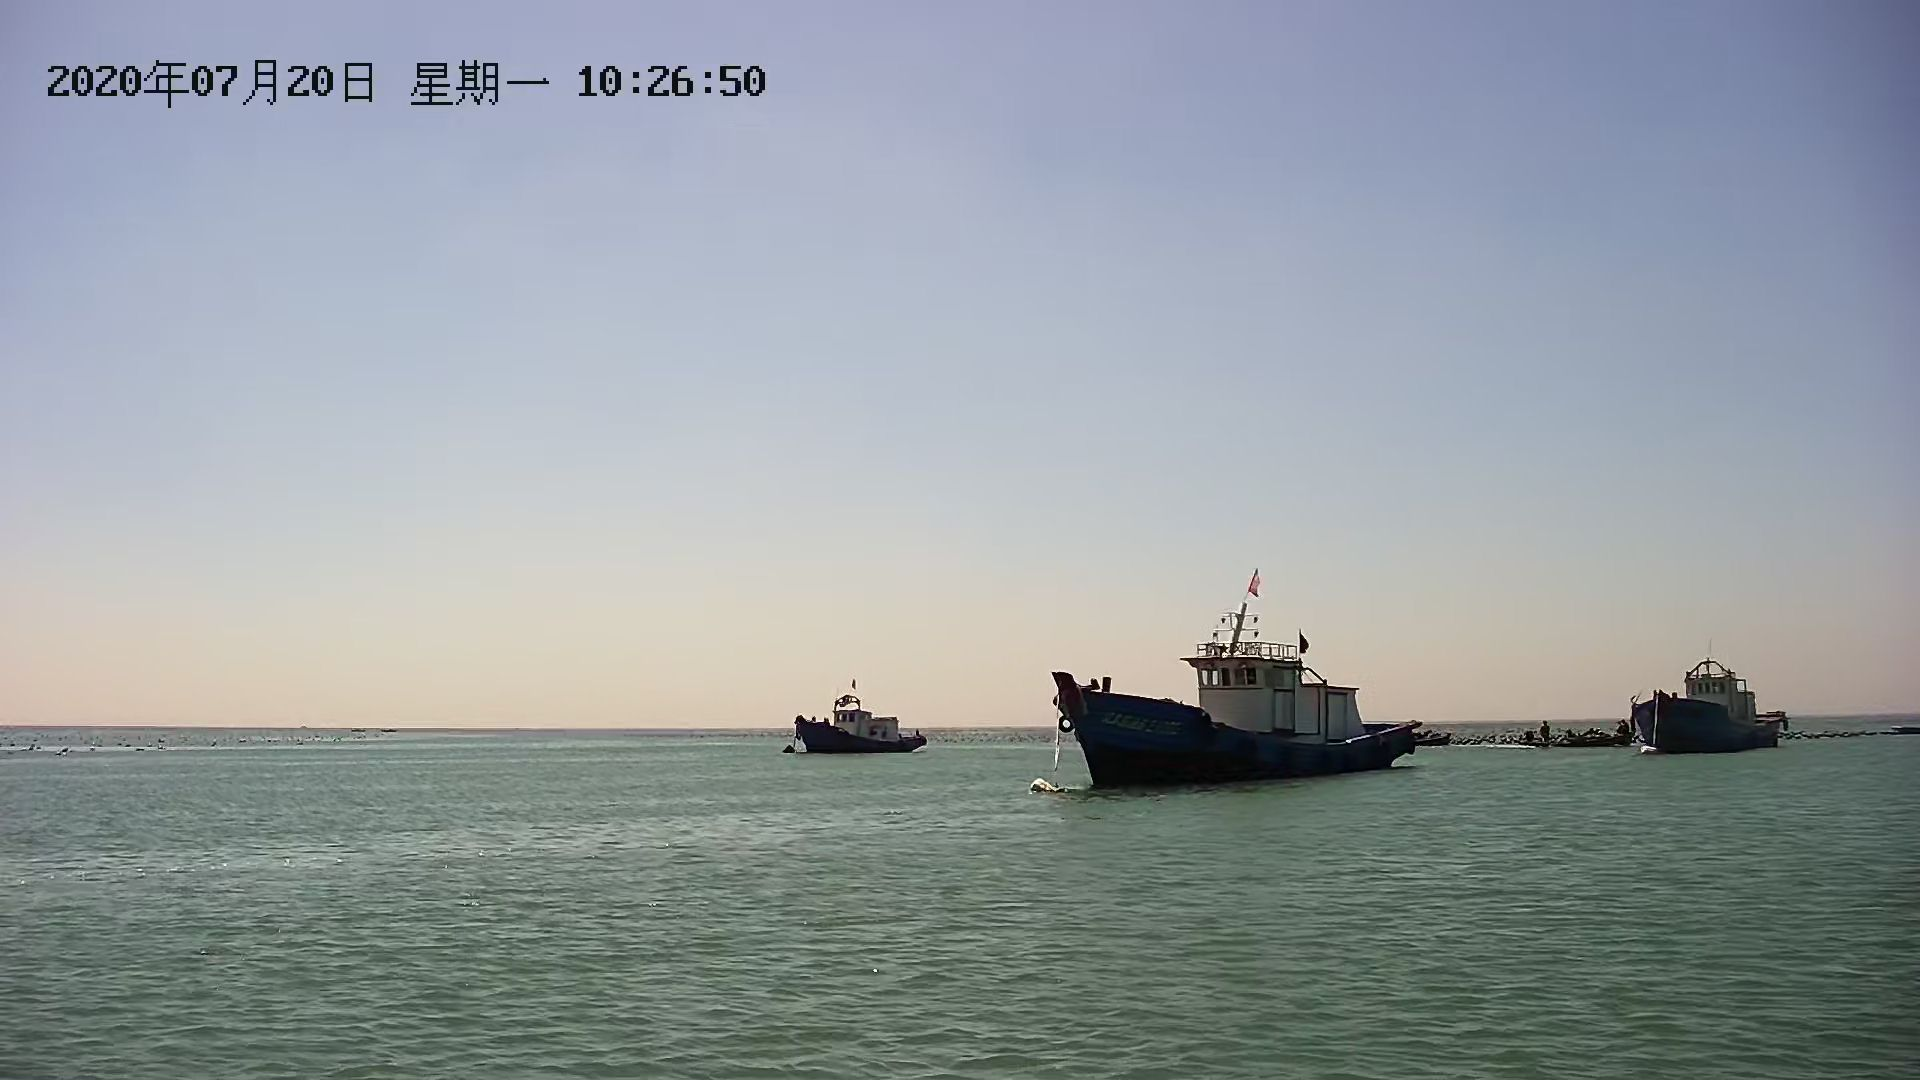rubbish: (1021, 771, 1065, 796)
ship: (1054, 629, 1424, 781), (1631, 663, 1791, 760), (778, 688, 928, 760)
